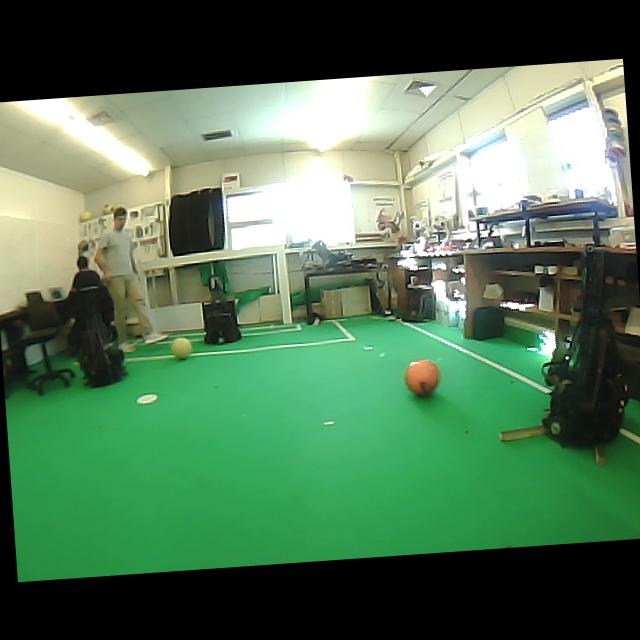ball: (404, 359, 439, 395), (170, 337, 191, 358), (79, 210, 92, 221), (102, 204, 114, 214)
goal: (276, 246, 291, 323)
robot: (543, 249, 628, 446), (202, 263, 240, 343), (78, 324, 126, 386)
